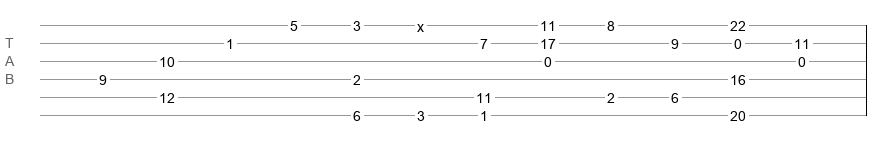0: (544, 54, 552, 64), (734, 36, 742, 46), (798, 54, 806, 64)
1: (226, 36, 234, 46), (480, 108, 488, 118)
10: (159, 54, 175, 64)
11: (476, 90, 492, 100), (540, 18, 556, 28), (794, 36, 810, 46)
12: (159, 90, 175, 100)
16: (730, 72, 746, 82)
17: (540, 36, 556, 46)
2: (353, 72, 361, 82), (607, 90, 615, 100)
20: (730, 108, 746, 118)
22: (730, 18, 746, 28)
3: (353, 18, 361, 28), (417, 108, 425, 118)
5: (290, 18, 298, 28)
6: (353, 108, 361, 118), (671, 90, 679, 100)
7: (480, 36, 488, 46)
8: (607, 18, 615, 28)
9: (99, 72, 107, 82), (671, 36, 679, 46)
x: (417, 19, 424, 27)
